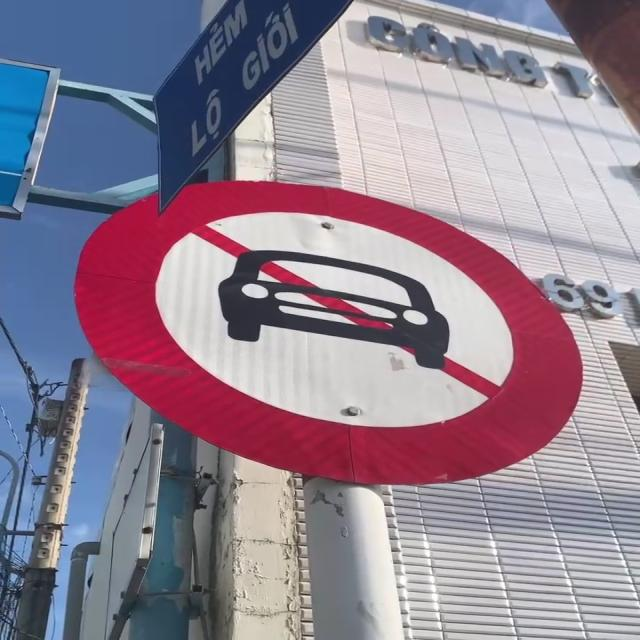Cam_O_To: (80, 170, 591, 488)
